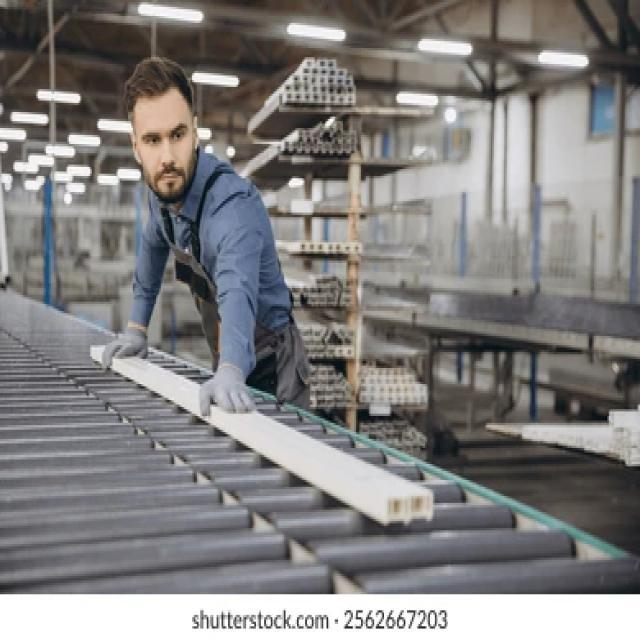gloved_hand: (195, 357, 257, 425), (99, 323, 152, 379)
